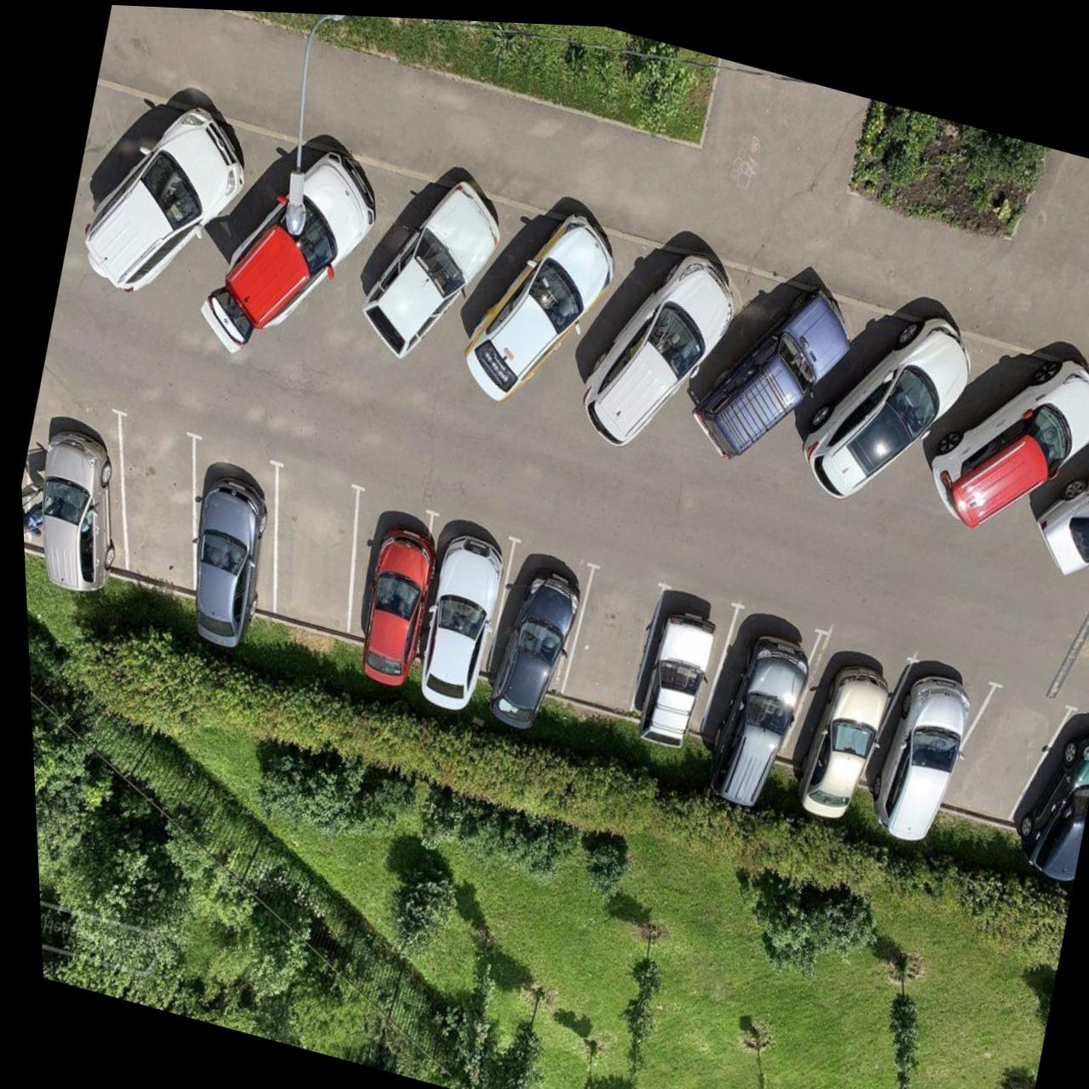cars: (317, 482, 458, 684), (162, 433, 303, 631), (17, 380, 144, 585), (855, 646, 981, 830), (777, 629, 905, 805), (480, 529, 597, 718), (702, 596, 821, 765), (626, 578, 743, 745), (410, 517, 520, 693)
empty: (251, 460, 373, 652), (934, 662, 1061, 843), (87, 420, 213, 601), (546, 552, 667, 725)
